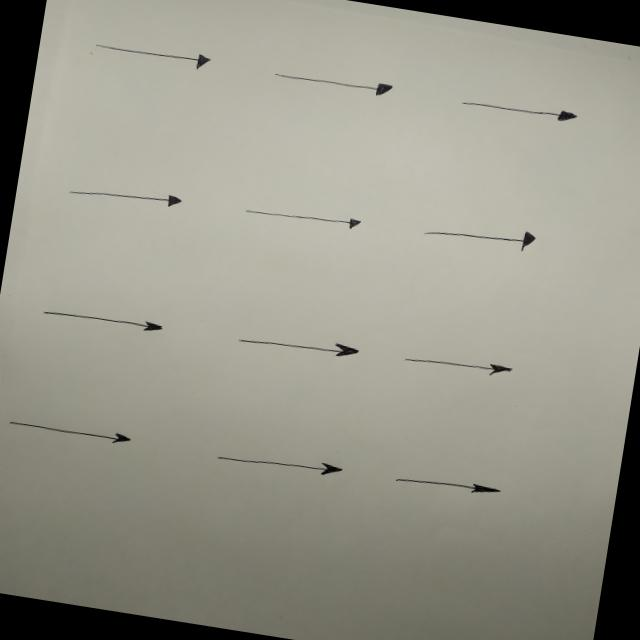arrow_line_right: (0, 409, 151, 463), (31, 296, 186, 348), (200, 439, 354, 488), (258, 54, 403, 106), (228, 190, 372, 242), (378, 464, 517, 516), (220, 322, 372, 369), (56, 168, 198, 218), (449, 86, 588, 132), (392, 345, 531, 390), (84, 32, 222, 76), (416, 212, 542, 260)
